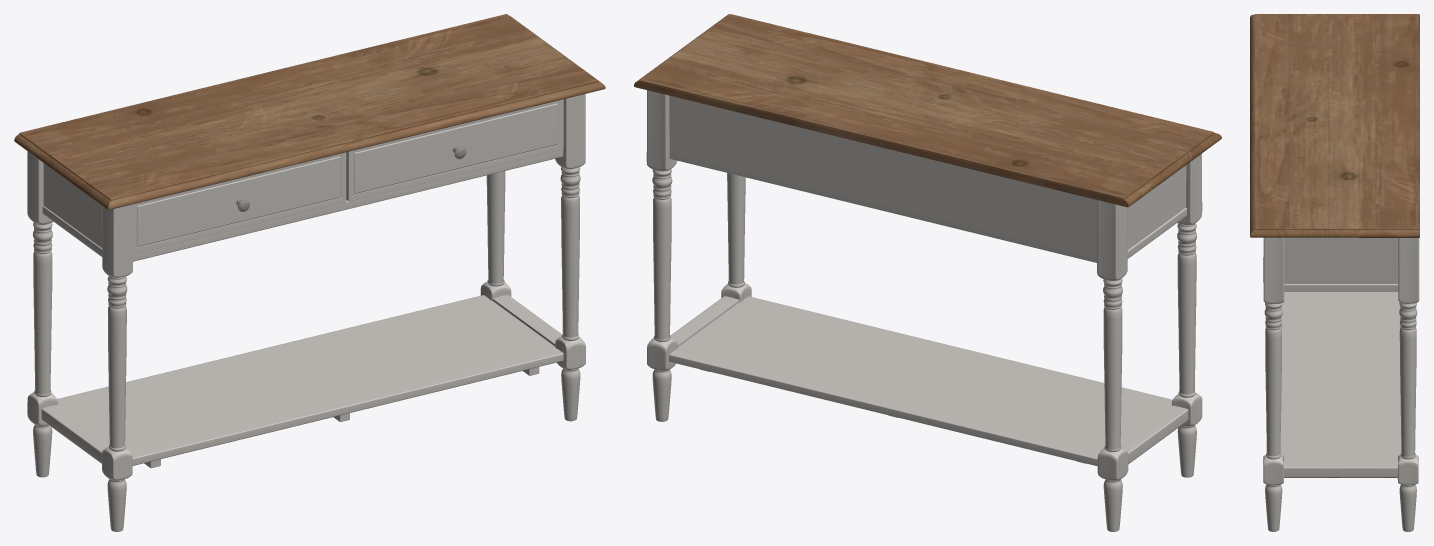
The model's file is abo-B07DB968V1.glb.
The picture shows the model from 3 angles, left to right: view 1: azimuth 30°, elevation 25°; view 2: azimuth 150°, elevation 25°; view 3: azimuth 270°, elevation 25°; orthographic projection. The views are drawn at different scales.
Size of the model in its own units: 1.22 by 0.8 by 0.399.
1 material, 1 textured.
